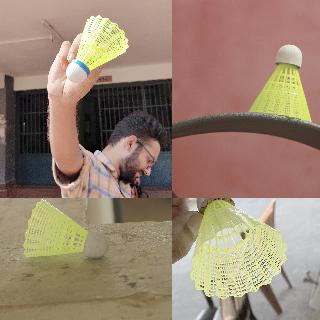shuttlecock: (189, 198, 287, 299), (23, 198, 108, 258), (249, 45, 311, 121), (66, 15, 128, 83)
